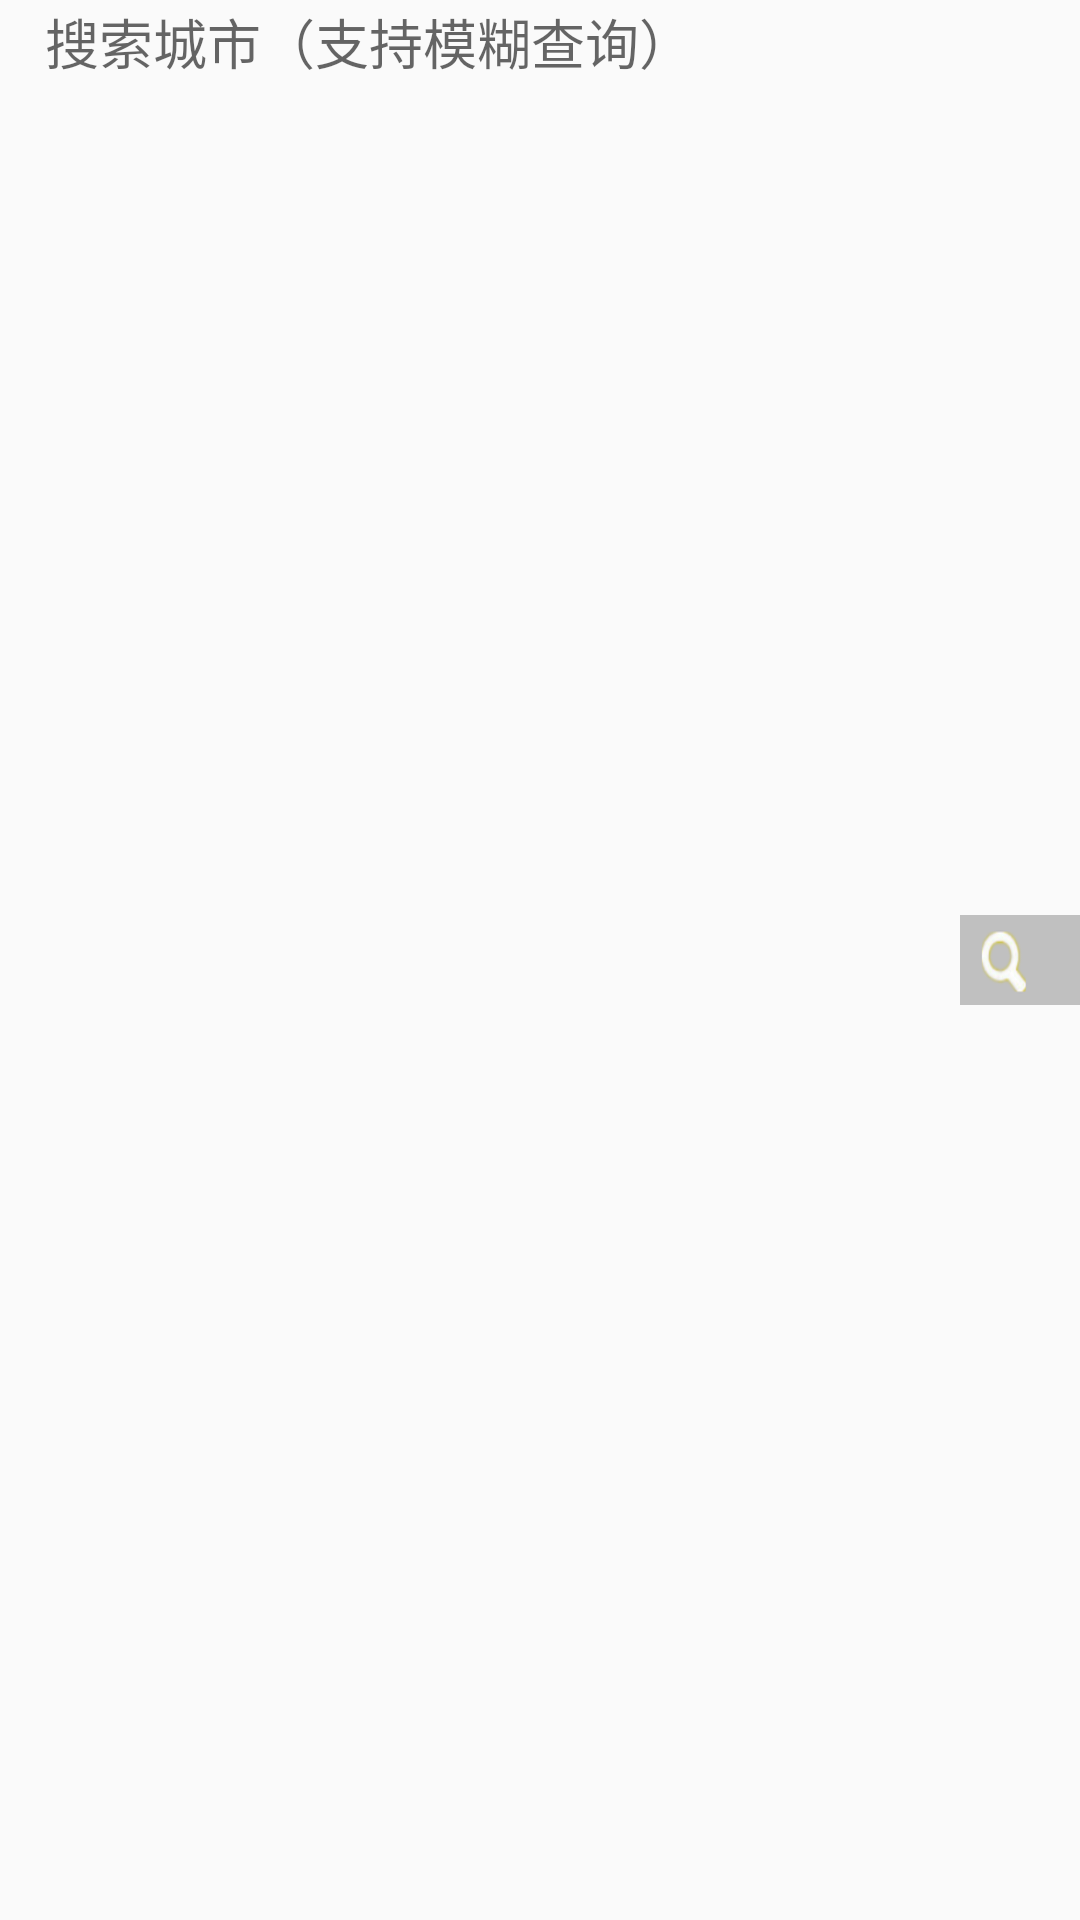

Screen size 1080 x 1920. Icon name, then its center in pixels as point (x, y):
searchcity: point (1020, 960)
